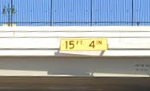1: (62, 39, 69, 50)
4: (86, 38, 96, 51)
5: (68, 39, 76, 50)
overheadsign: (59, 38, 109, 52)
